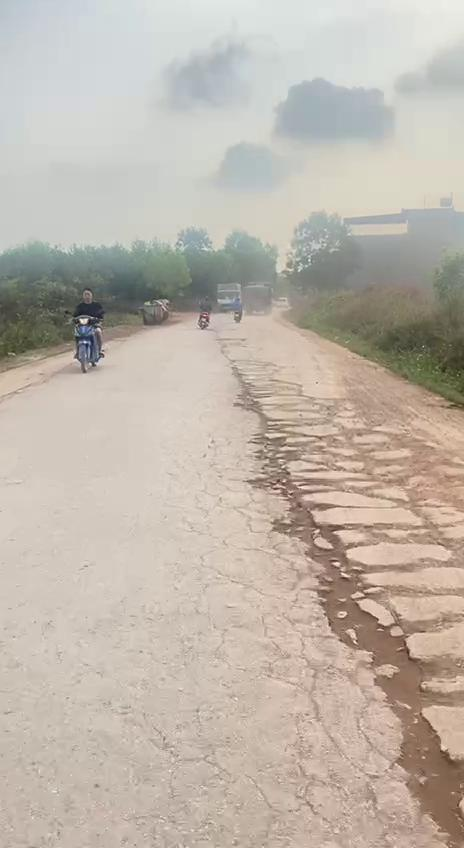pothole: (313, 578, 464, 846), (252, 457, 374, 594), (237, 390, 343, 474)
